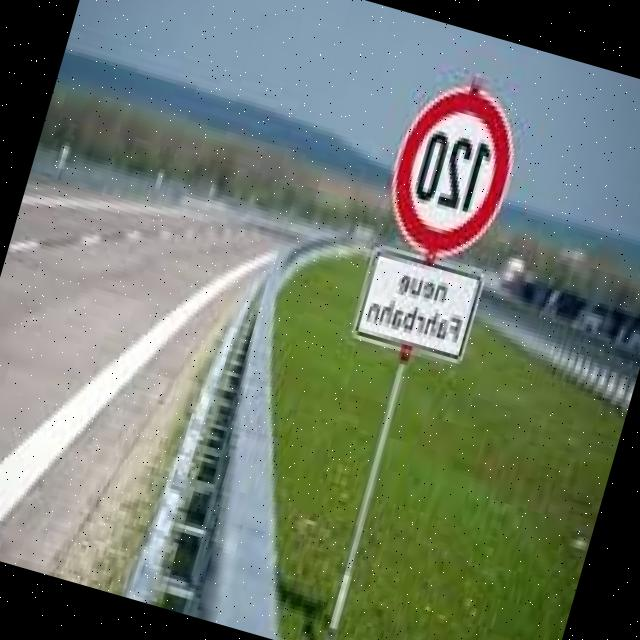speed_limit_120: (371, 70, 536, 274)
